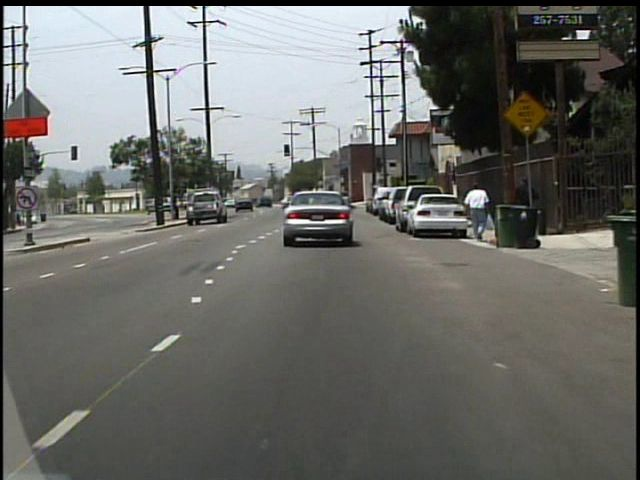person: (462, 183, 490, 245)
